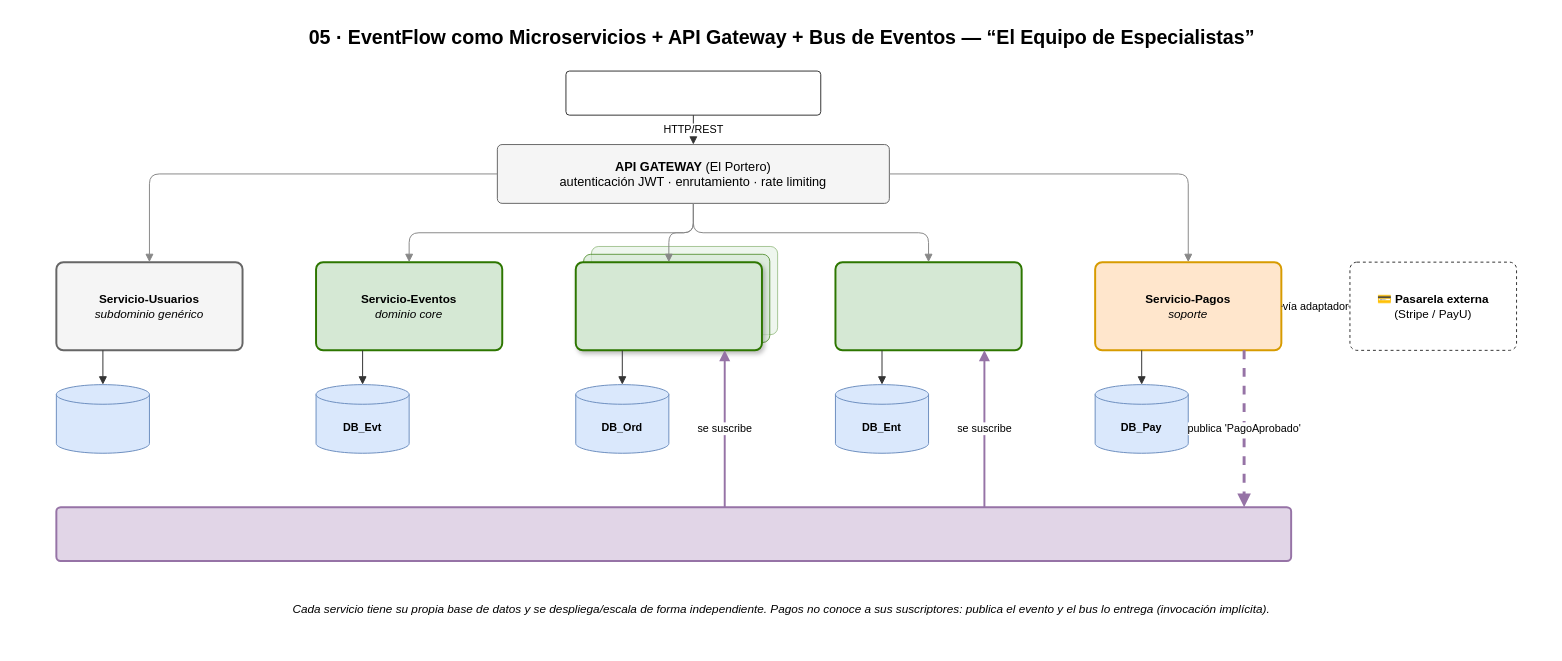
Some shapes in this 1562 by 661 pixel diagram are drawn without their labels. The centre of each missing label's shape, as x and y in pixels:
"BUS DE EVENTOS (Kafka / RabbitMQ) — tópico pagos.aprobados" goes at pixel 673 534.
"DB_Usr" goes at pixel 102 418.
"Servicio-Entradas inventario · core" goes at pixel 928 306.
"Servicio-Pedidos dominio core ×50 réplicas en el pico" goes at pixel 669 307.
"🌐 Navegador / App móvil" goes at pixel 693 92.
